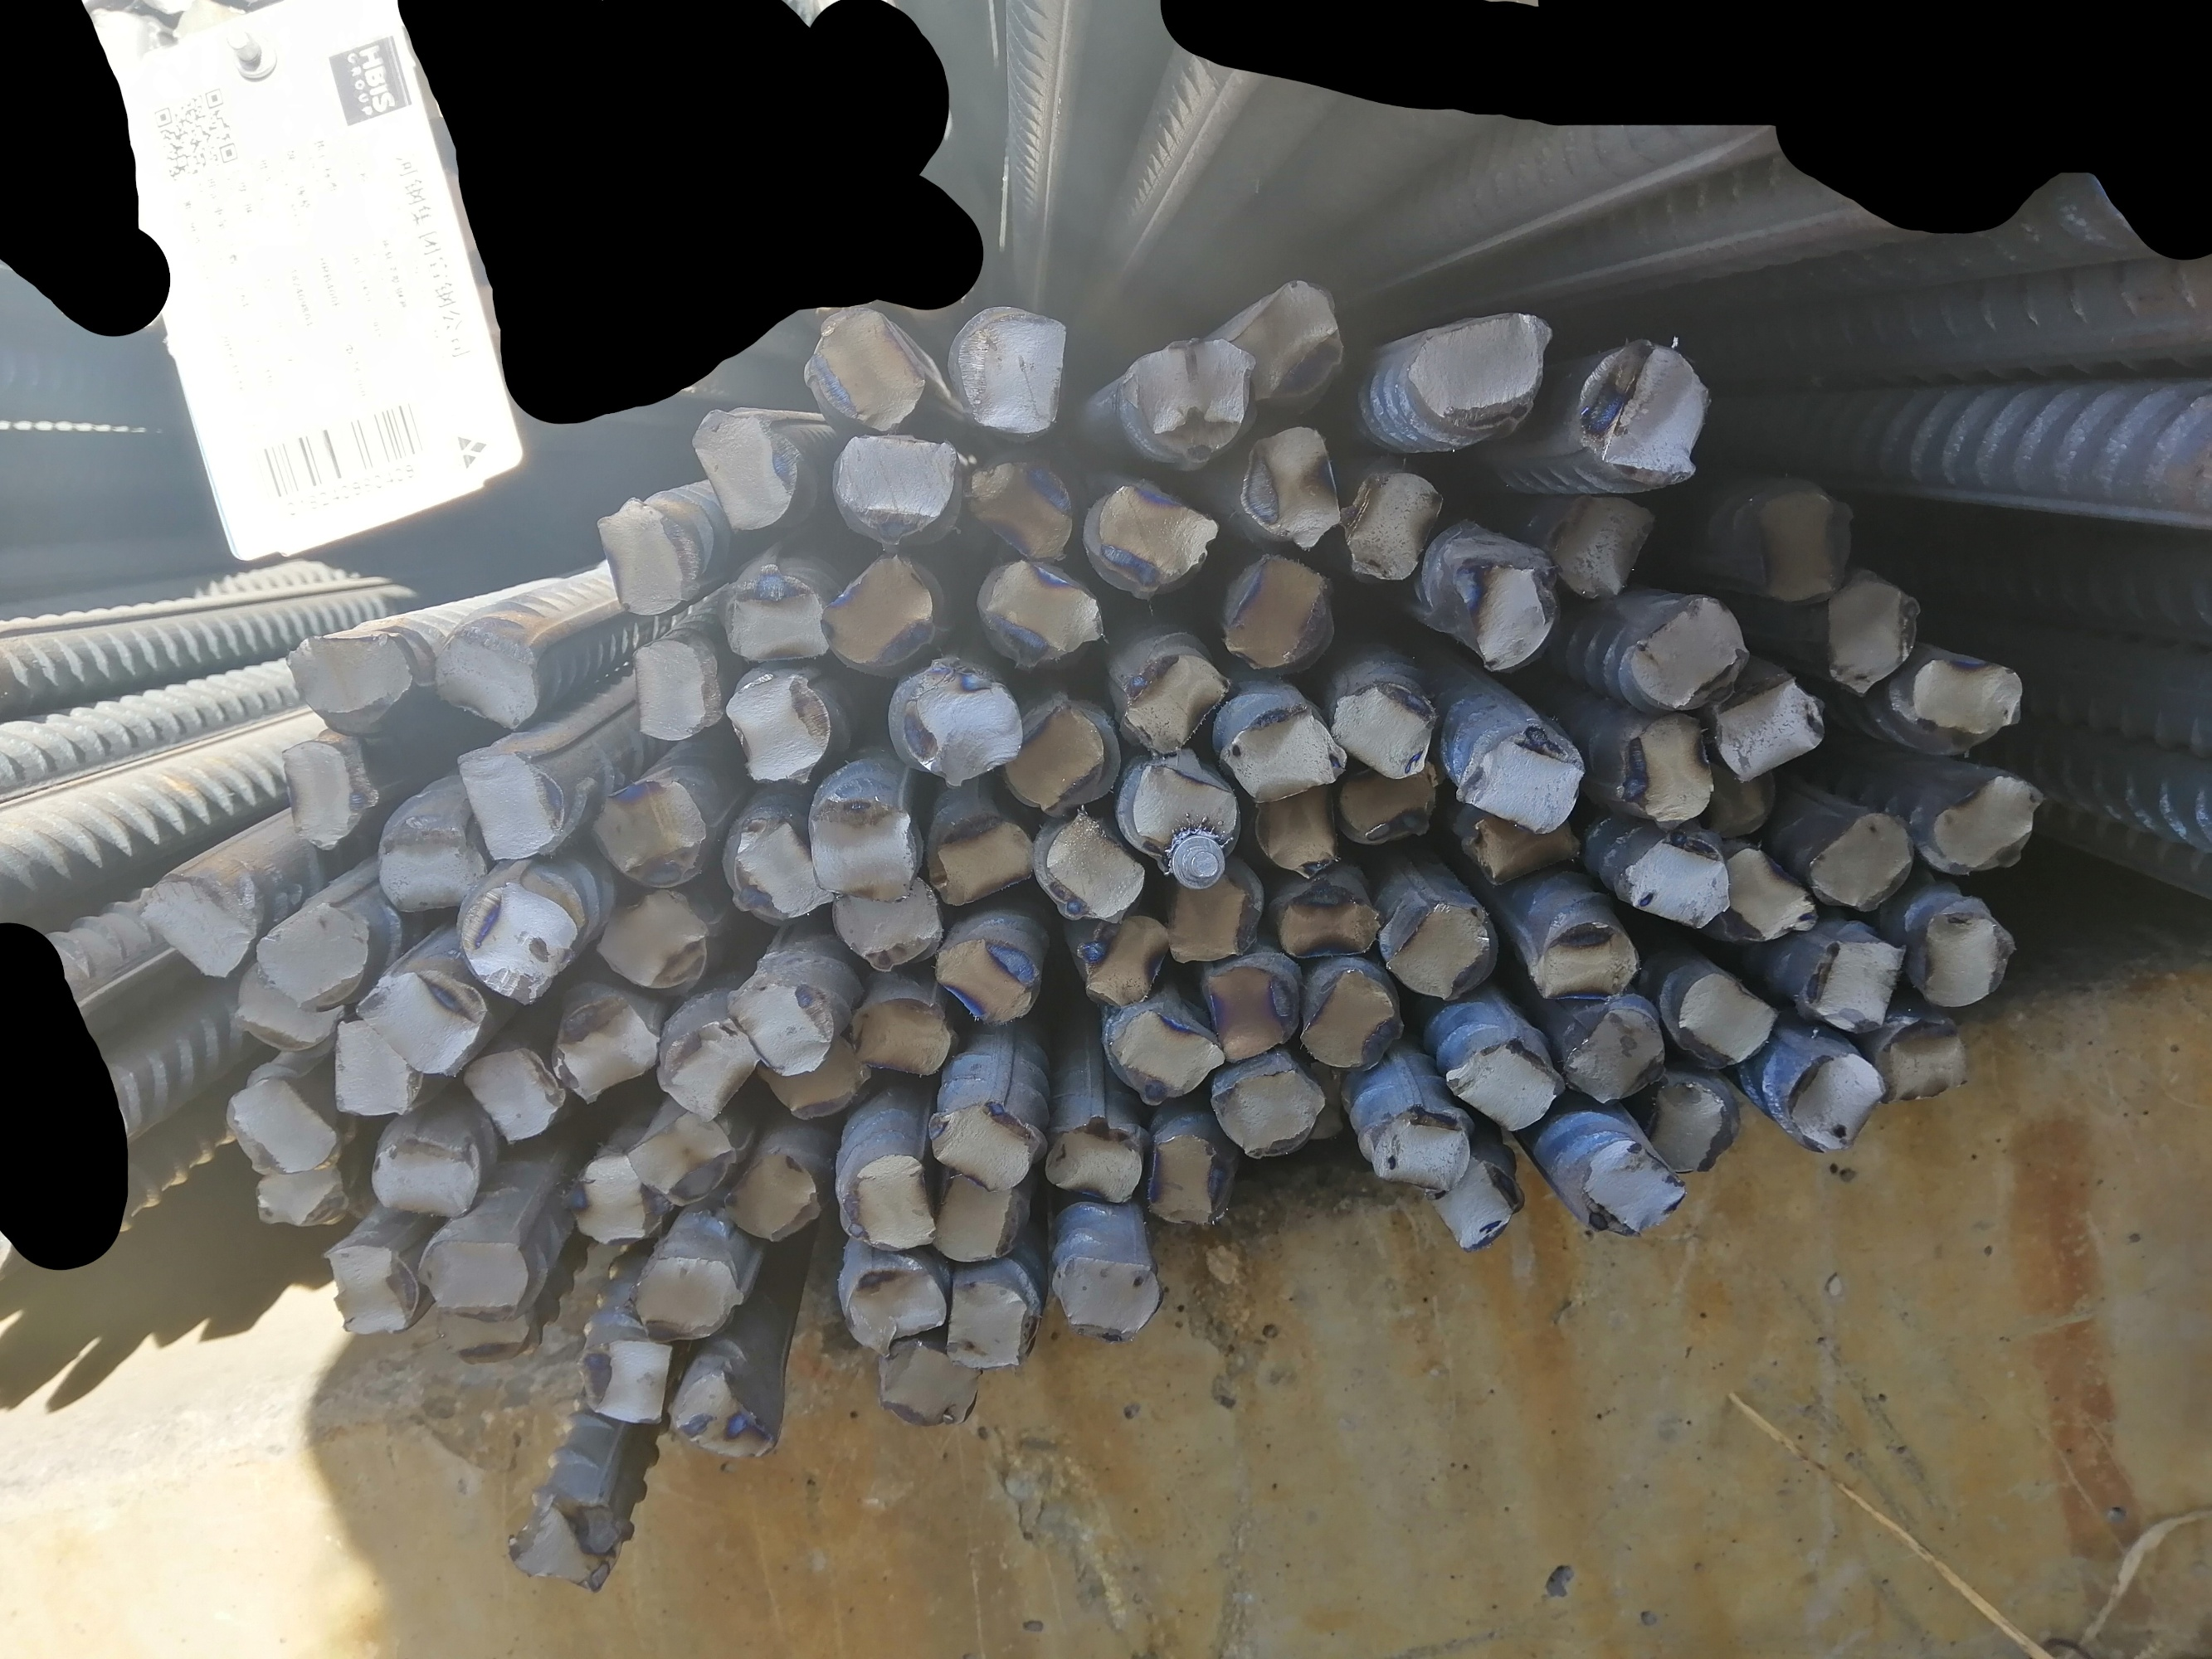rebar: (1579, 335, 1712, 488), (1121, 336, 1260, 476), (1400, 310, 1550, 437), (884, 657, 1023, 789), (797, 303, 938, 432), (1086, 472, 1220, 605), (1222, 279, 1349, 418), (1616, 591, 1754, 718), (947, 300, 1070, 441), (347, 962, 490, 1084), (457, 878, 580, 1006), (690, 399, 802, 537), (1455, 718, 1586, 835), (971, 556, 1103, 671), (279, 622, 413, 735), (1001, 692, 1121, 816), (1891, 652, 2029, 760), (1229, 422, 1342, 552), (830, 432, 959, 545), (819, 549, 938, 669), (1912, 769, 2041, 878), (1218, 552, 1337, 671), (593, 490, 697, 622), (1332, 464, 1449, 582), (1741, 486, 1858, 605), (138, 877, 261, 988), (957, 451, 1079, 563), (450, 744, 568, 857), (1032, 805, 1145, 924), (587, 777, 708, 889), (1119, 762, 1239, 873), (1449, 551, 1557, 674), (427, 613, 540, 730), (1813, 579, 1926, 694), (370, 809, 490, 917), (1220, 704, 1349, 803), (1103, 1004, 1227, 1107), (722, 812, 835, 924), (225, 1077, 342, 1185), (253, 901, 373, 1006), (722, 669, 831, 782), (807, 798, 922, 906), (502, 1492, 619, 1596), (1712, 673, 1825, 779), (1445, 1032, 1564, 1133), (1562, 1140, 1686, 1236), (626, 1107, 739, 1211), (594, 889, 708, 993), (1794, 932, 1907, 1037), (1616, 711, 1715, 829), (1781, 1054, 1890, 1162), (1116, 655, 1231, 756), (655, 1012, 760, 1122), (1386, 899, 1499, 1000), (1621, 831, 1734, 932), (228, 962, 343, 1061), (549, 999, 659, 1101), (1806, 812, 1912, 917), (1544, 490, 1647, 598), (831, 875, 947, 971), (1211, 1065, 1327, 1161), (753, 1032, 872, 1124), (729, 974, 835, 1077), (1912, 906, 2019, 1009), (722, 565, 830, 666), (633, 1251, 744, 1349), (1360, 1100, 1476, 1192), (1300, 969, 1407, 1070), (1328, 680, 1435, 781), (926, 812, 1035, 910), (934, 934, 1046, 1030), (279, 735, 368, 856), (1717, 842, 1818, 946), (924, 1100, 1037, 1192), (837, 1263, 950, 1356), (462, 1047, 567, 1147), (1562, 1006, 1666, 1105), (669, 1370, 779, 1464), (1055, 1249, 1161, 1345), (324, 1230, 418, 1338), (1679, 971, 1781, 1068), (629, 636, 725, 741), (1462, 803, 1581, 887), (838, 1154, 940, 1251), (1422, 1154, 1523, 1251), (1199, 962, 1297, 1063), (725, 1143, 821, 1246), (1529, 918, 1645, 1002), (417, 1237, 528, 1324), (319, 1019, 418, 1117), (929, 1175, 1034, 1267), (1252, 775, 1344, 880), (1335, 756, 1440, 849), (563, 1154, 669, 1244), (371, 1133, 483, 1218), (1168, 864, 1260, 965), (1644, 1077, 1736, 1176), (879, 1340, 983, 1425), (1075, 913, 1170, 1007), (1046, 1115, 1143, 1206), (847, 999, 959, 1077), (1278, 877, 1382, 960), (1143, 1133, 1234, 1229), (573, 1340, 671, 1427), (1872, 1018, 1968, 1105), (947, 1279, 1035, 1370), (1700, 758, 1788, 845), (429, 1302, 535, 1364), (254, 1171, 349, 1230), (1297, 1060, 1351, 1154)
